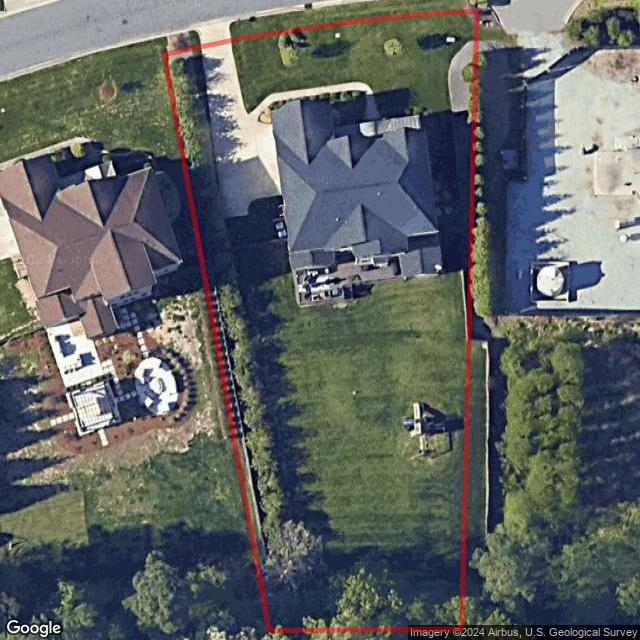Driveway: (200, 41, 283, 220)
Extra-Driveway: (195, 22, 232, 46)
Extra-Lawn: (229, 0, 472, 40), (160, 30, 201, 54)
House: (272, 100, 446, 279)
Lawn: (163, 10, 478, 632)
Other: (165, 50, 463, 631), (382, 105, 454, 225), (447, 40, 476, 262), (293, 252, 403, 309), (258, 91, 365, 127), (399, 401, 453, 459), (278, 31, 300, 66), (384, 38, 404, 55)
Sidewalk: (248, 82, 382, 122)
